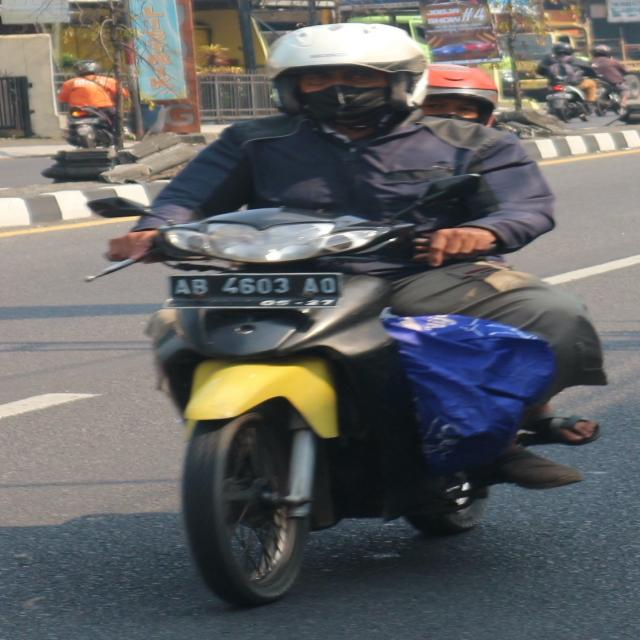Plate-Number: (151, 266, 355, 321)
